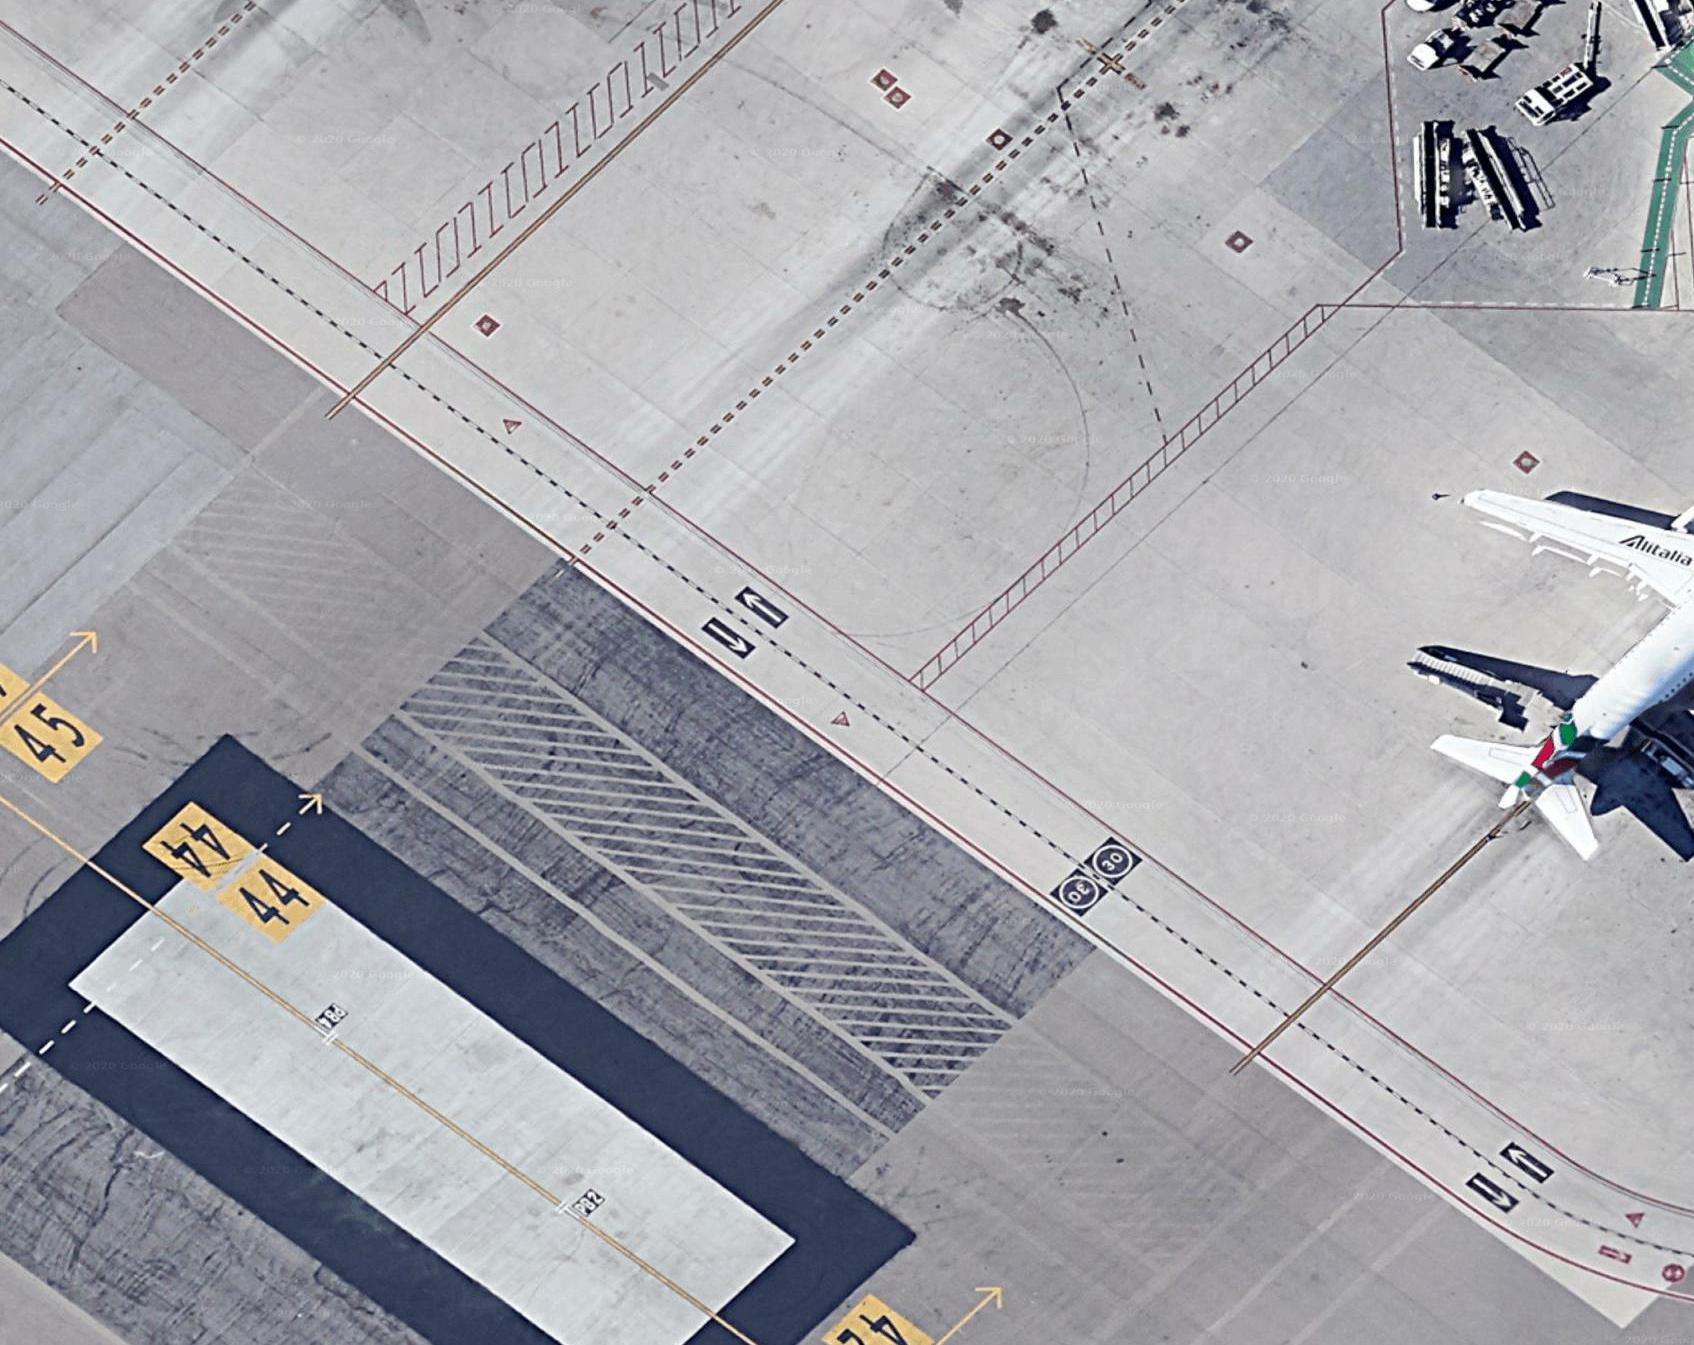plane: (1401, 352, 1694, 996)
